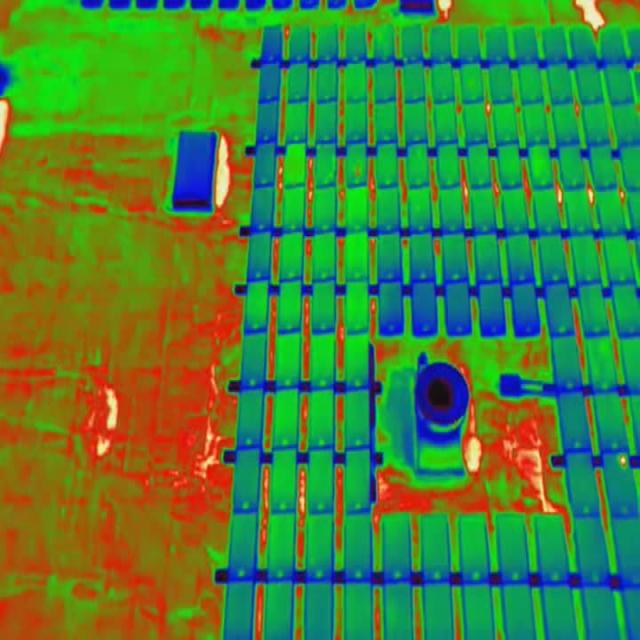Orange-Spots: (618, 454, 628, 470), (354, 163, 362, 176)
